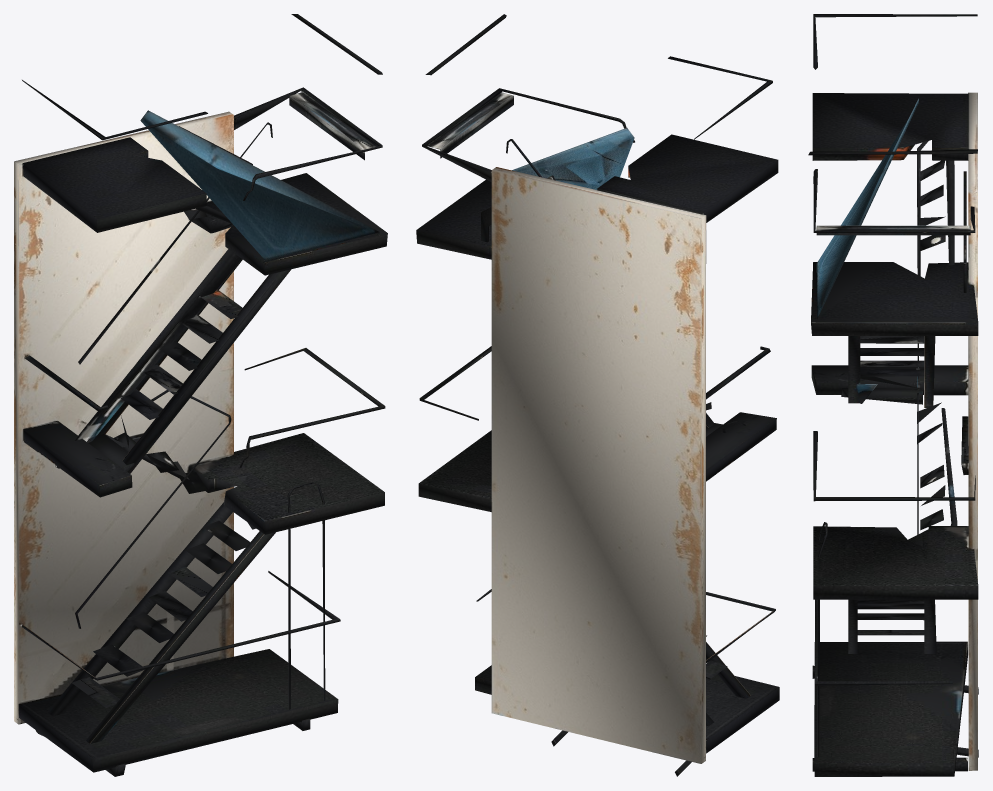
The model's file is fire_escape.glb.
The picture shows the model from 3 angles, left to right: view 1: azimuth 30°, elevation 25°; view 2: azimuth 150°, elevation 25°; view 3: azimuth 270°, elevation 25°; orthographic projection. The views are drawn at different scales.
Bounding box in the file's own units: 2.32 × 5 × 1.15.
Materials: 1 (1 with a texture image).
